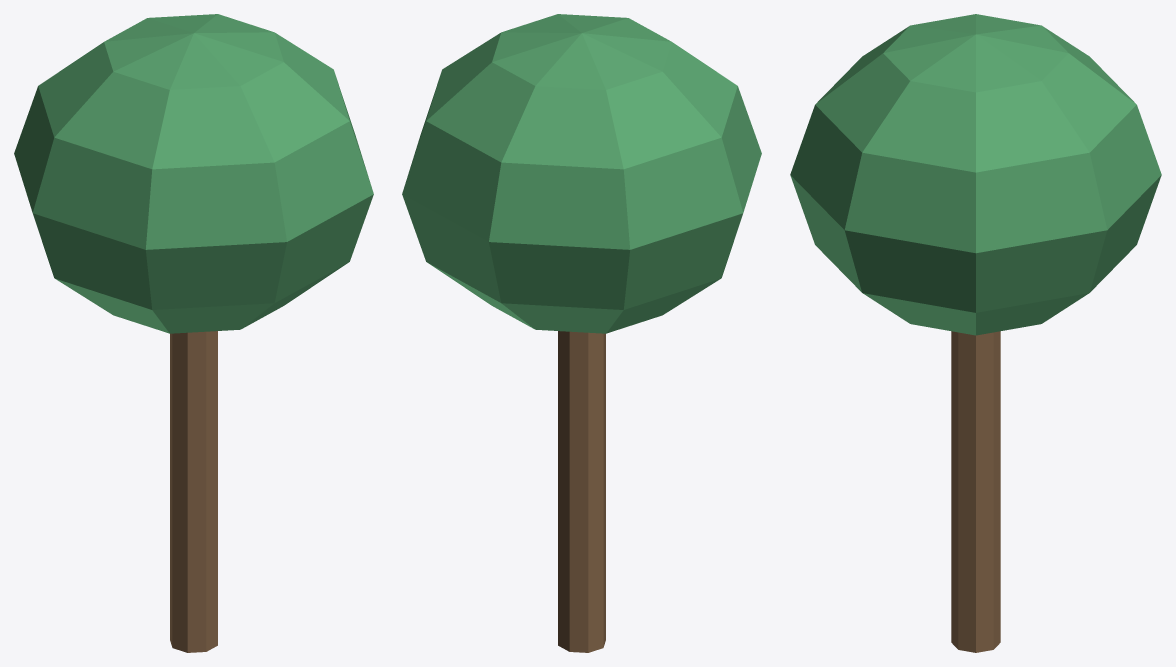
Rendered from tree.glb.
3 renders of one model, left to right at view 1: azimuth 30°, elevation 25°; view 2: azimuth 150°, elevation 25°; view 3: azimuth 270°, elevation 25°, orthographic.
Parts seen in each view (by area): view 1: Canopy, Trunk; view 2: Canopy, Trunk; view 3: Canopy, Trunk.
Part boxes in pixels (x1=…): Canopy: x1=14, y1=14, x2=373, y2=333; Trunk: x1=170, y1=331, x2=217, y2=652; Canopy: x1=402, y1=14, x2=761, y2=333; Trunk: x1=558, y1=331, x2=605, y2=652; Canopy: x1=790, y1=14, x2=1161, y2=335; Trunk: x1=951, y1=331, x2=1000, y2=652.
Bounding box in the file's own units: 1.8 × 3.25 × 1.8.
